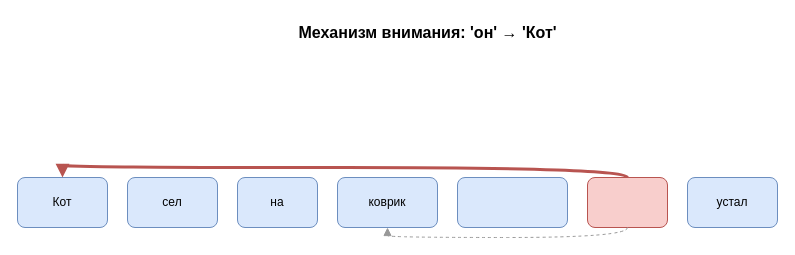
This 795x255 diagram has some shape labels left out. Here are the shapes that lost their labels. From the top down, the box of each, then its label:
(456, 176, 568, 228): потому что
(586, 176, 668, 228): он
